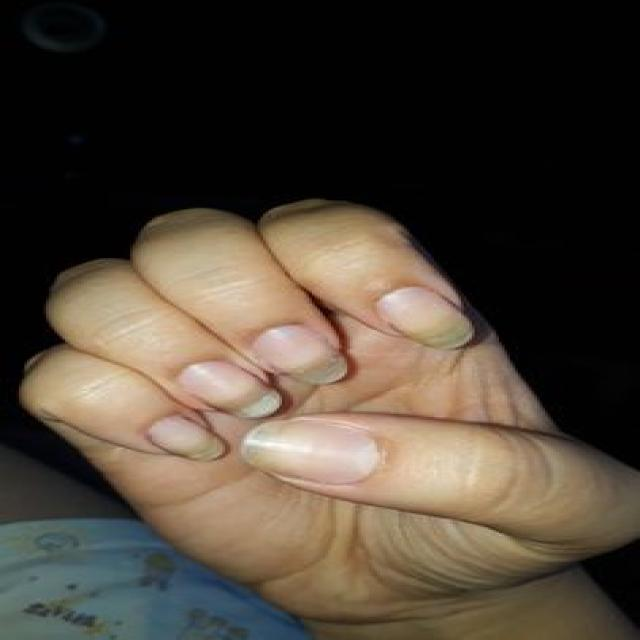Fingernail: (243, 420, 383, 483), (379, 283, 475, 351), (254, 323, 351, 386), (181, 360, 278, 417), (150, 411, 224, 464)
